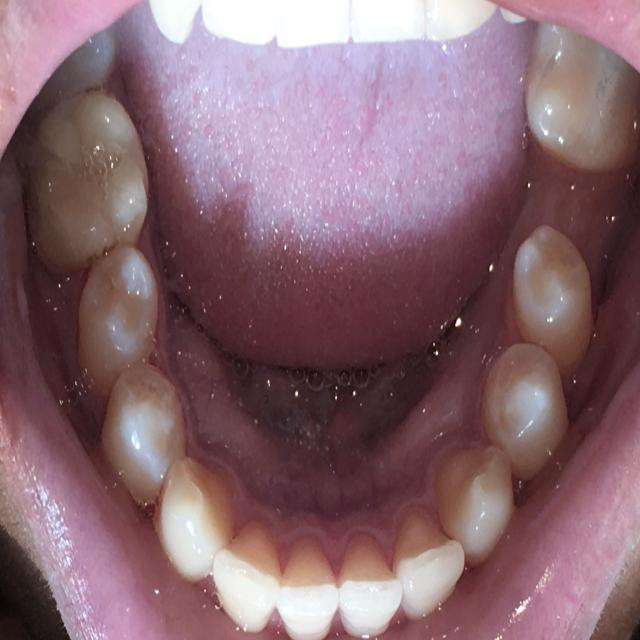tooth: (33, 84, 149, 282), (522, 22, 640, 180), (504, 209, 604, 367), (95, 358, 189, 512), (473, 332, 576, 465), (74, 244, 163, 391), (157, 427, 232, 592), (431, 430, 520, 561), (212, 491, 281, 636), (384, 506, 470, 616), (331, 523, 403, 640), (277, 527, 342, 640), (38, 18, 123, 98)
